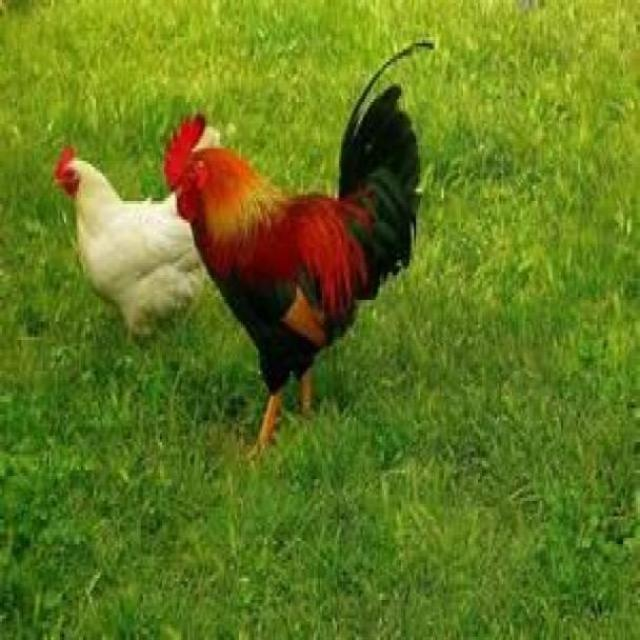Chicken: (164, 40, 435, 458), (51, 127, 226, 340)
